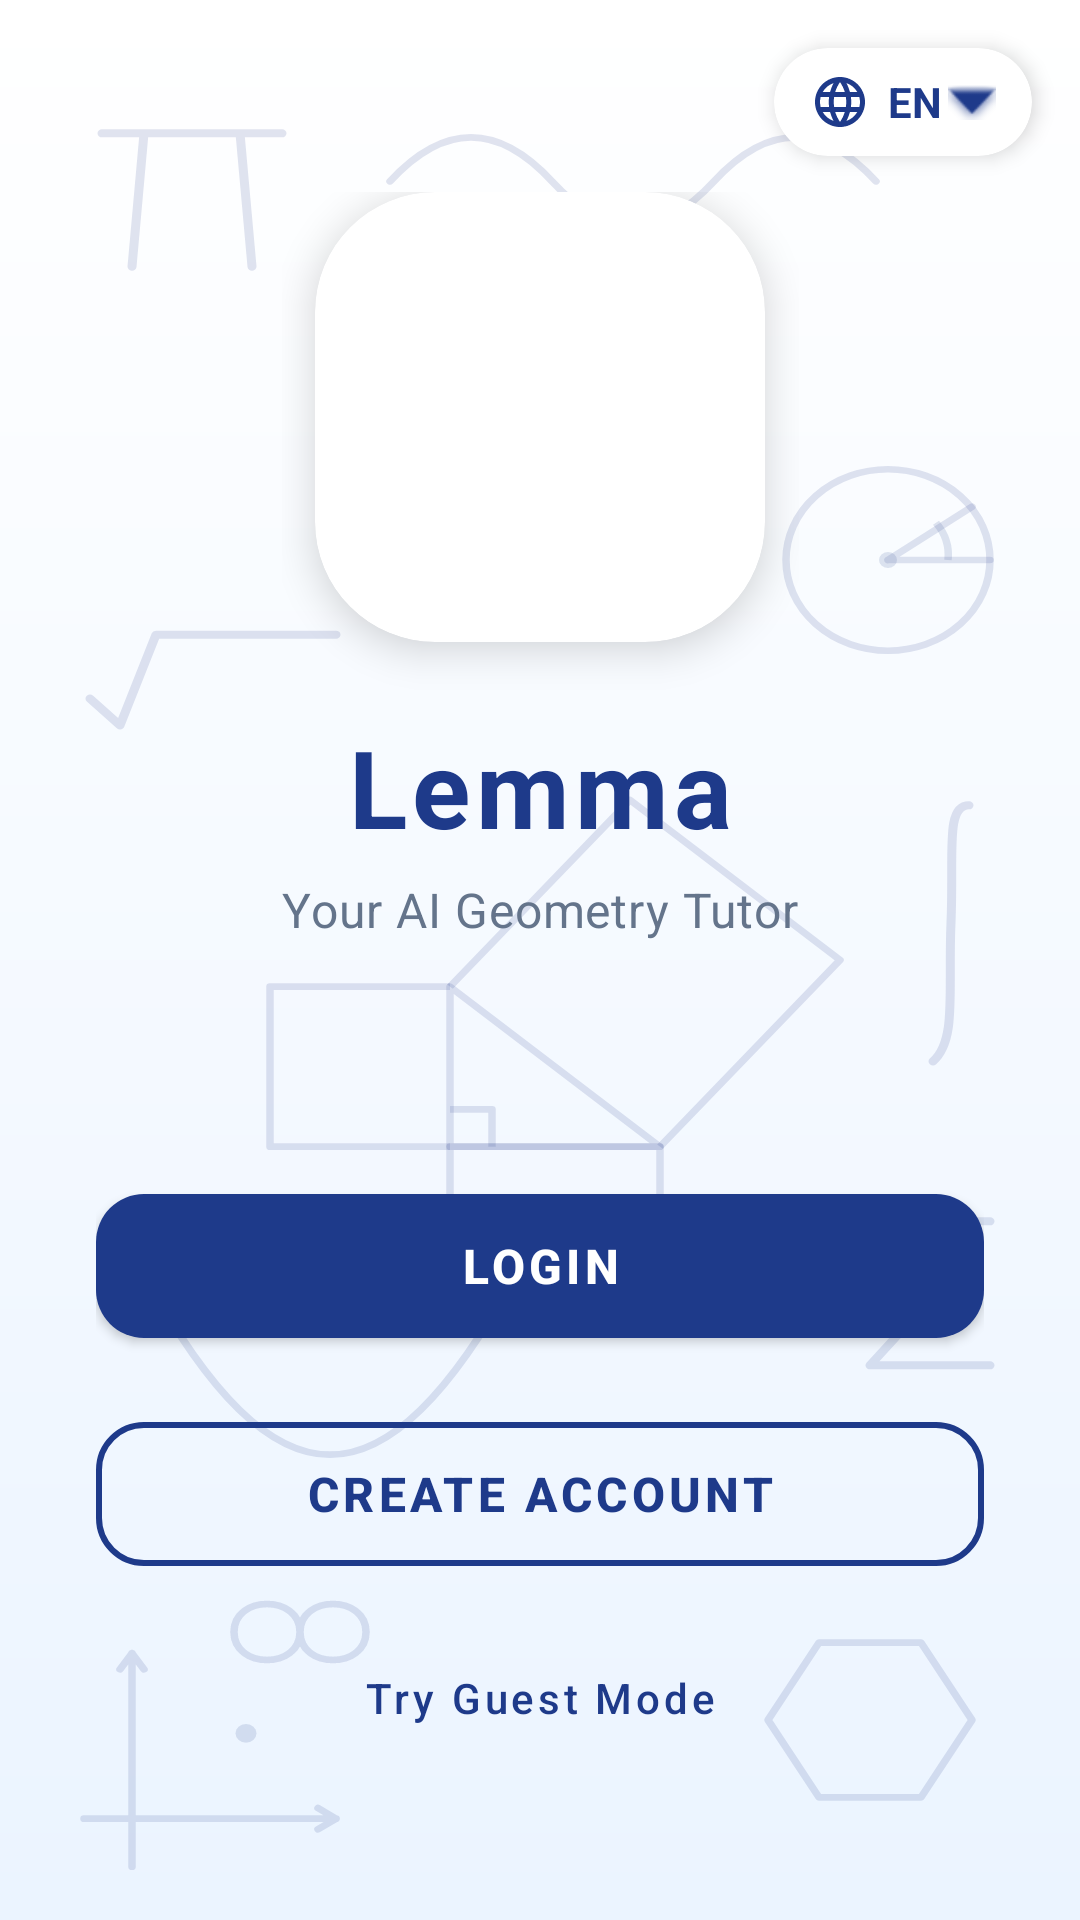

Screen size 1080w x 1920h. Icon name, then its center in pixels as (x,y):
arrow down float: (972,102)
language: (840,102)
